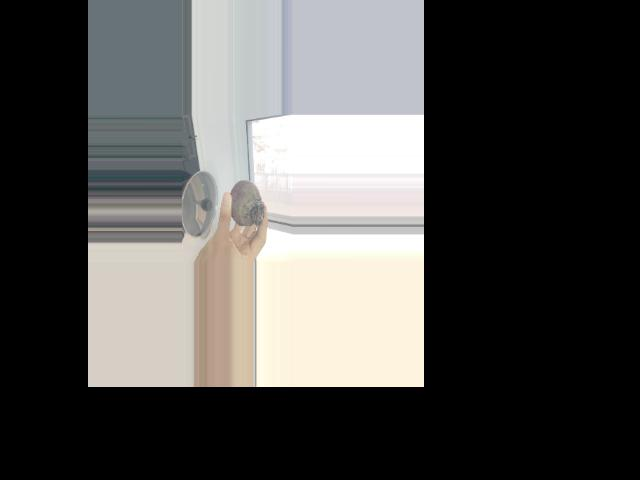beet: (229, 179, 264, 239)
